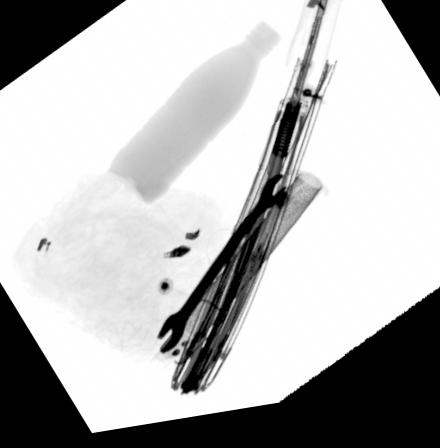Wrench: (158, 181, 287, 359)
